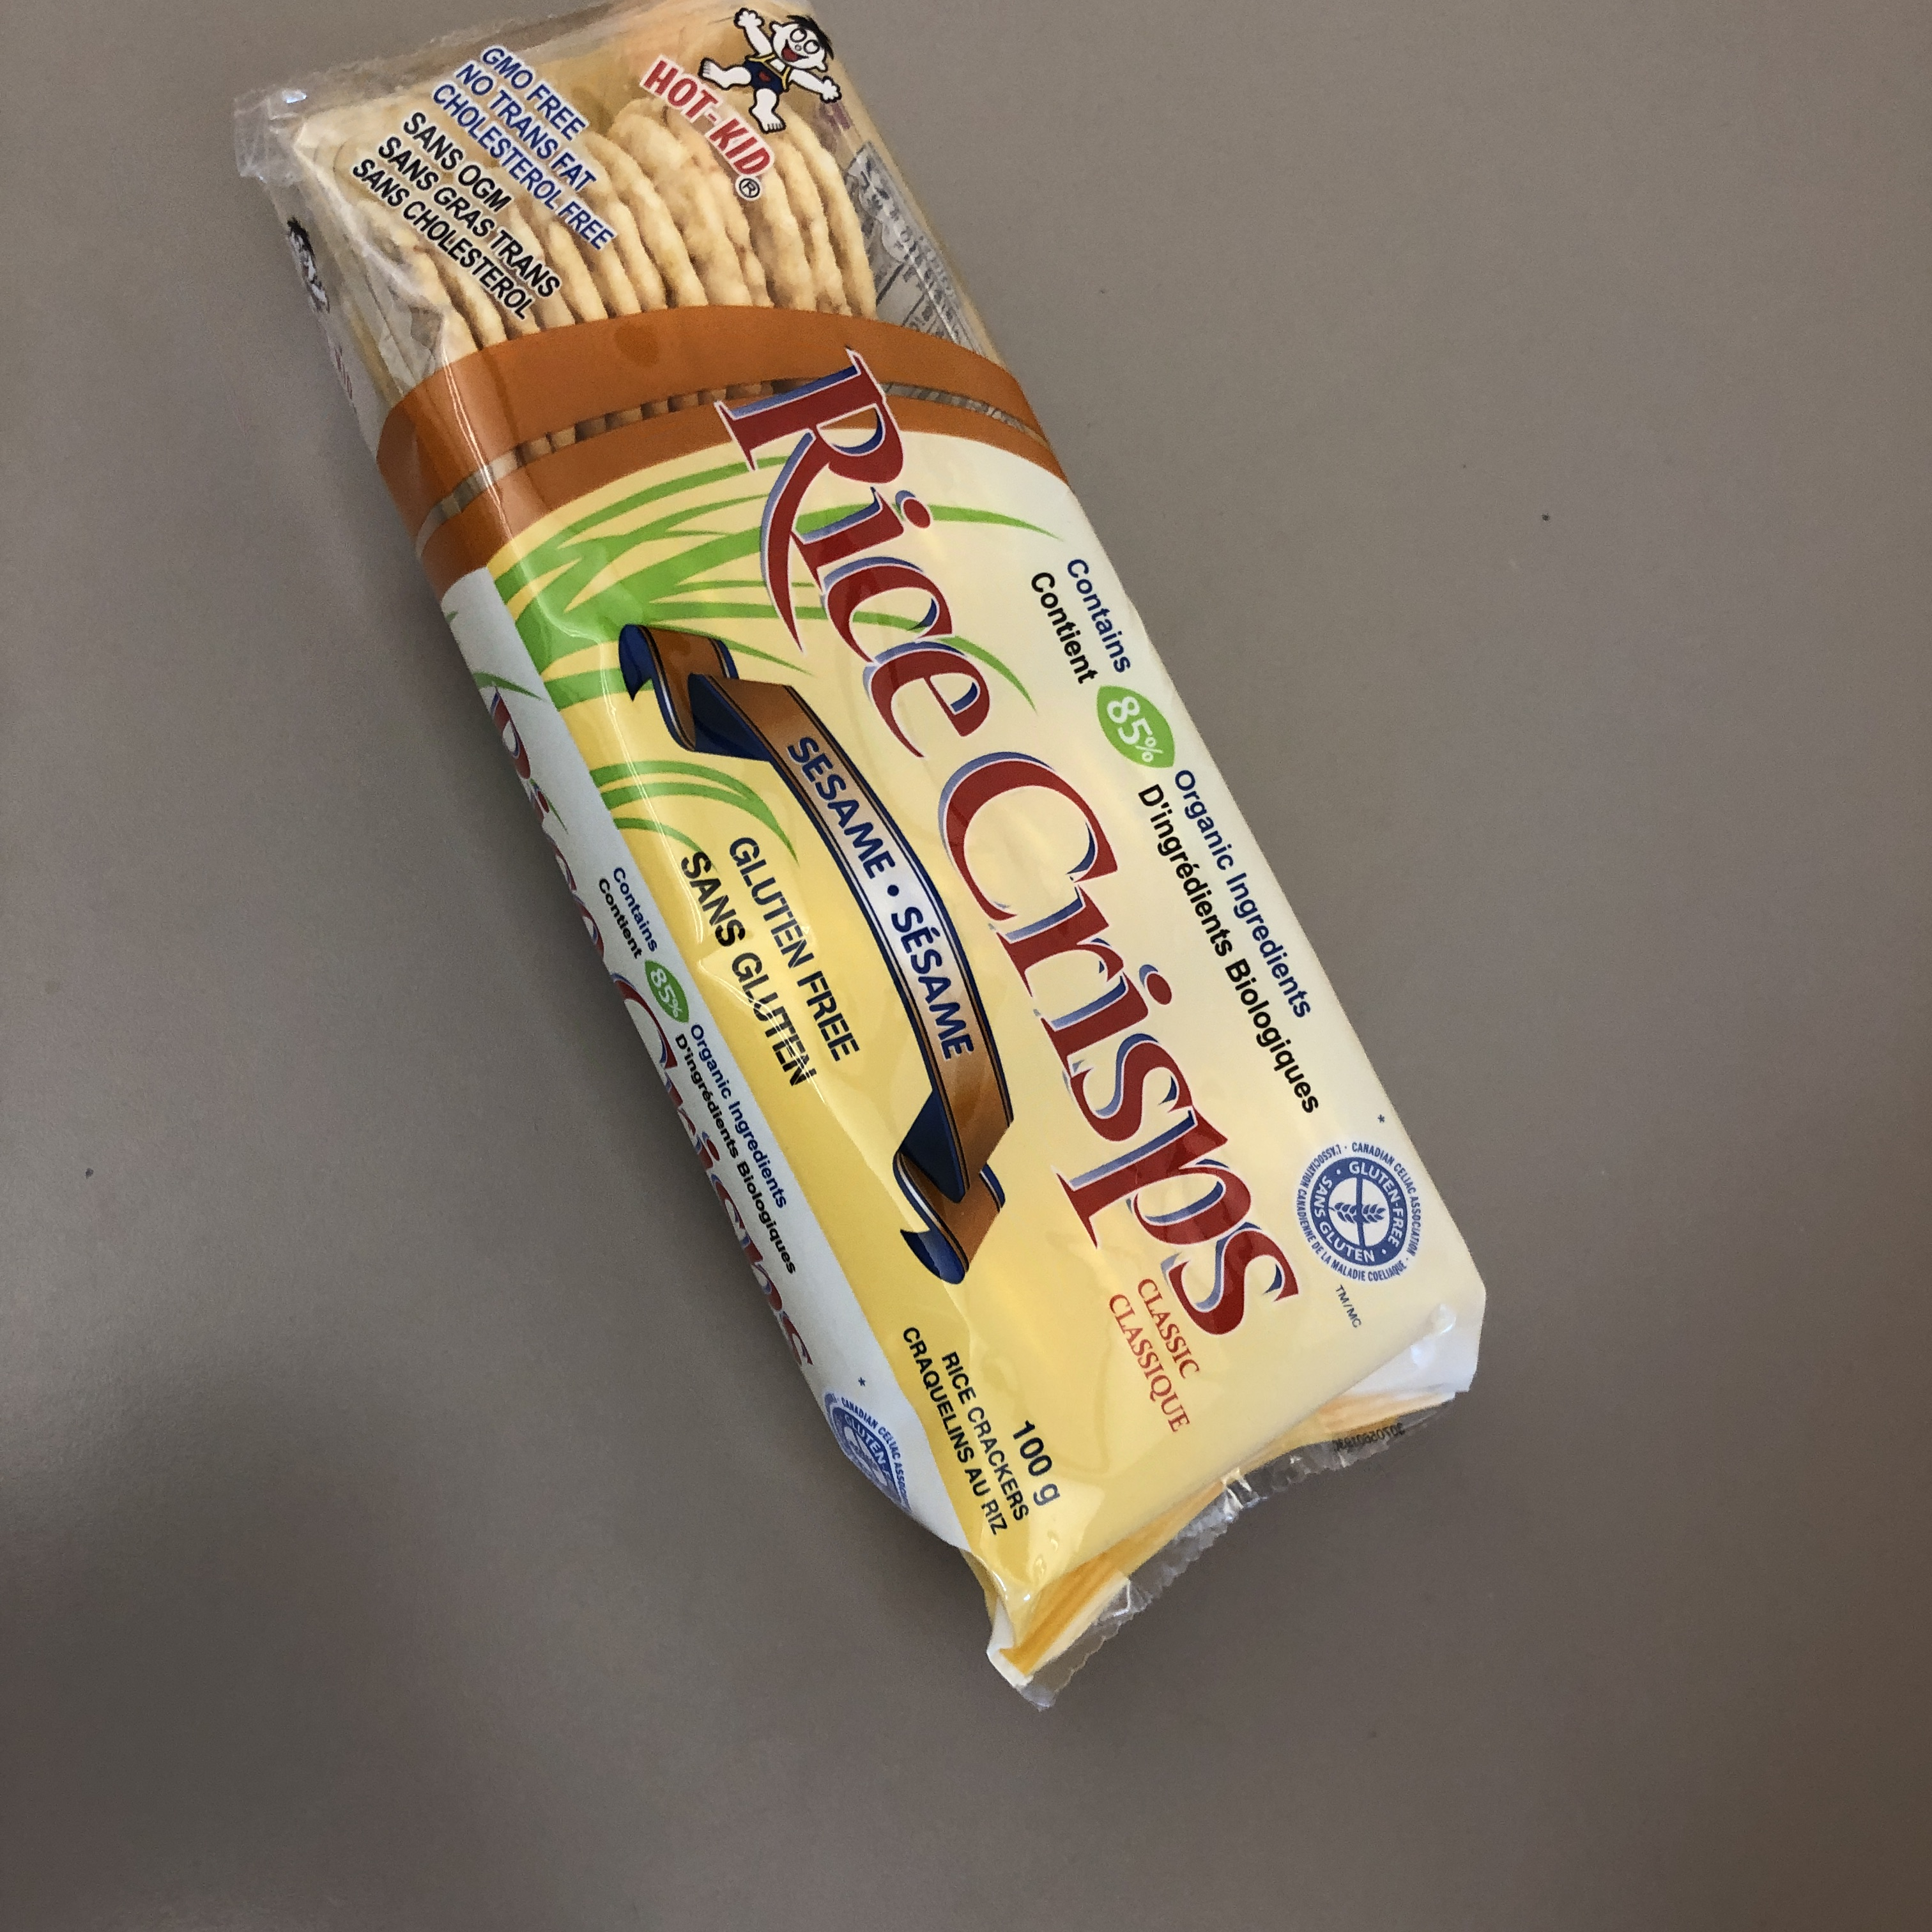hot_kid_rice_crisps_sesame: (22, 700, 1650, 1416)
